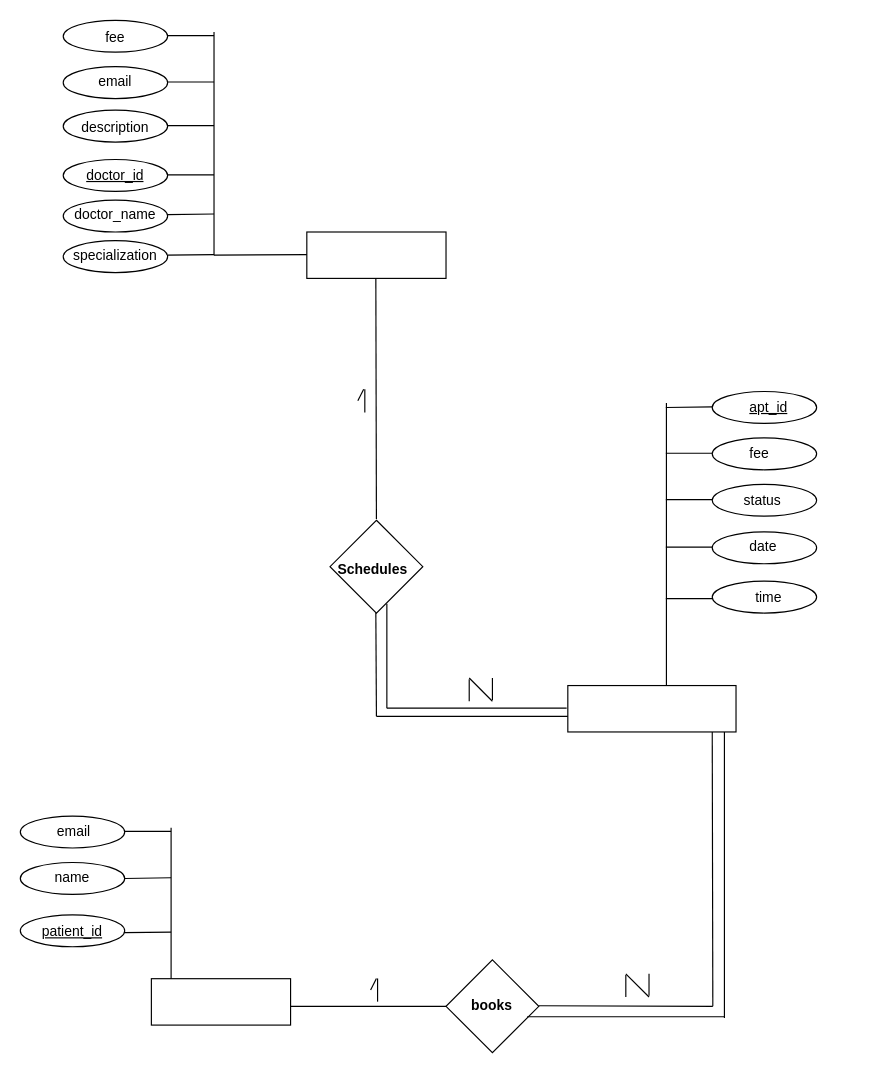
Image size: 872x1073. Some labels were removed from this diagram. Here are the shapes that lost their labels. From the top down, the box of each, then its label:
(306, 231, 446, 278): Doctor
(567, 684, 736, 732): Appointments
(150, 978, 291, 1025): Patient
